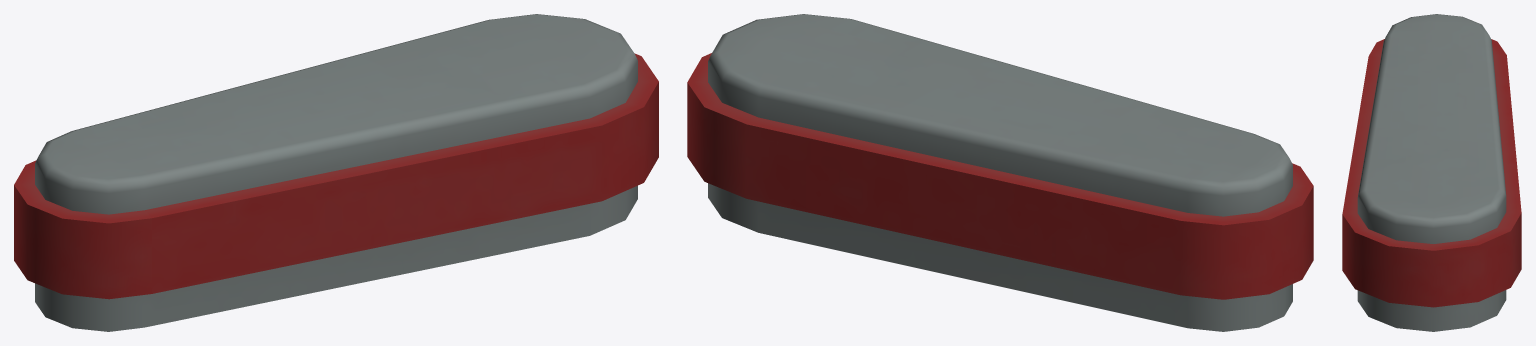
Rendered from Flipper.glb.
3 views of the same model, side by side, from view 1: azimuth 30°, elevation 25°; view 2: azimuth 150°, elevation 25°; view 3: azimuth 270°, elevation 25° (orthographic). The views are drawn at different scales.
Visible parts, largest first — view 1: Flipper.001; view 2: Flipper.001; view 3: Flipper.001.
Boxes of the visible parts, bbox=[...] form: Flipper.001: bbox=[14, 14, 658, 331]; Flipper.001: bbox=[687, 14, 1313, 331]; Flipper.001: bbox=[1342, 14, 1521, 331].
Bounding box in the file's own units: 0.1326 × 0.0306 × 0.0449.
Materials: 1 (1 with a texture image).
